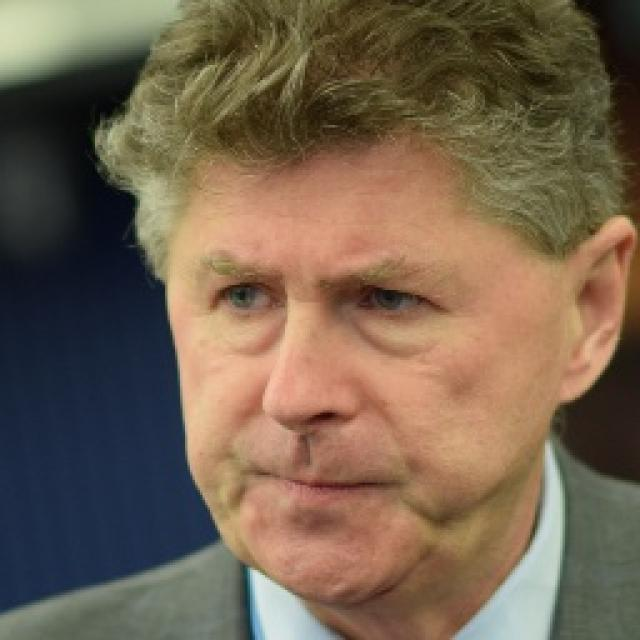earlobe: (556, 352, 592, 404)
eye: (212, 287, 279, 315), (354, 288, 423, 314)
nose: (260, 408, 359, 473)
wholeear: (556, 216, 637, 404)
